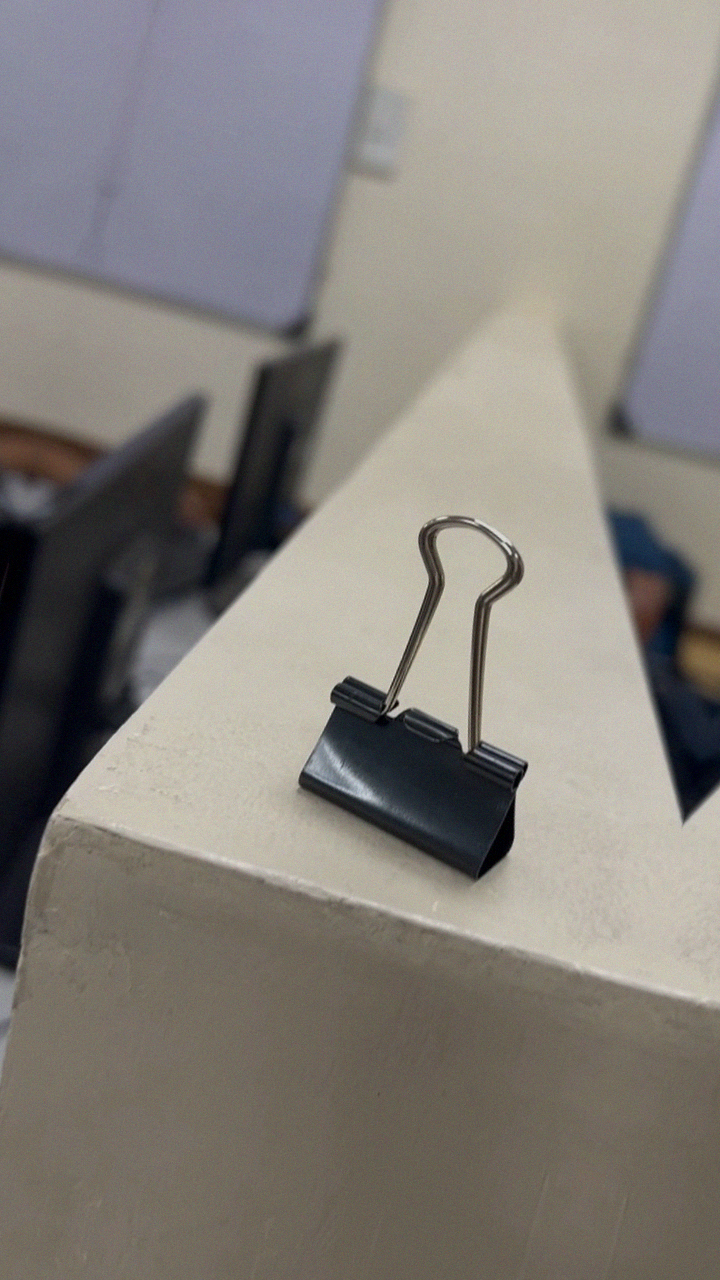kep_giay: (282, 487, 598, 885)
